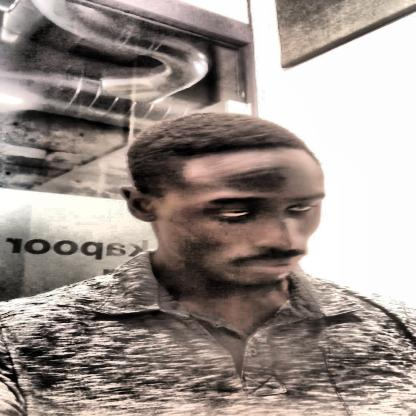not_wear: (114, 115, 324, 285)
